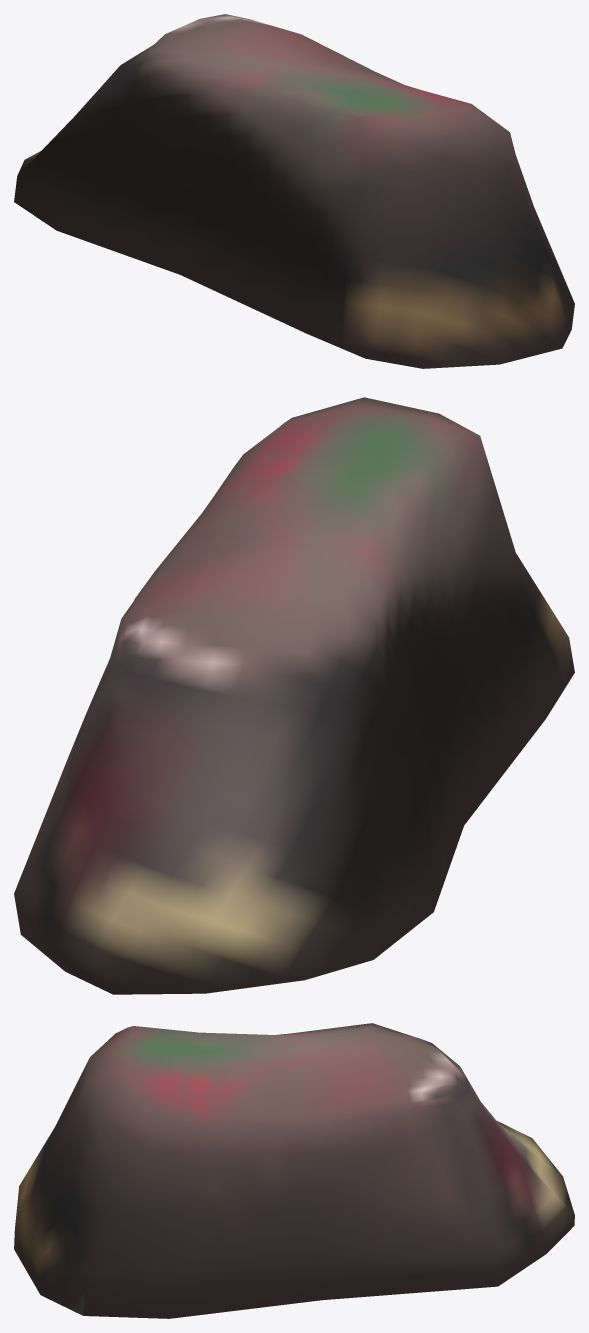
File: Beach_Rocks_2.glb
3 views of the same model, one above another, from view 1: azimuth 30°, elevation 25°; view 2: azimuth 150°, elevation 25°; view 3: azimuth 270°, elevation 25° (orthographic). The views are drawn at different scales.
Visible parts, largest first — view 1: Object_2.032; view 2: Object_2.032; view 3: Object_2.032.
Part boxes in pixels (left/top/right/bottom): Object_2.032: left=14, top=14, right=574, bottom=368; Object_2.032: left=14, top=397, right=574, bottom=994; Object_2.032: left=14, top=1023, right=574, bottom=1318.
Bounding box in the file's own units: 3.52 × 2.44 × 5.83.
1 material, 1 textured.
